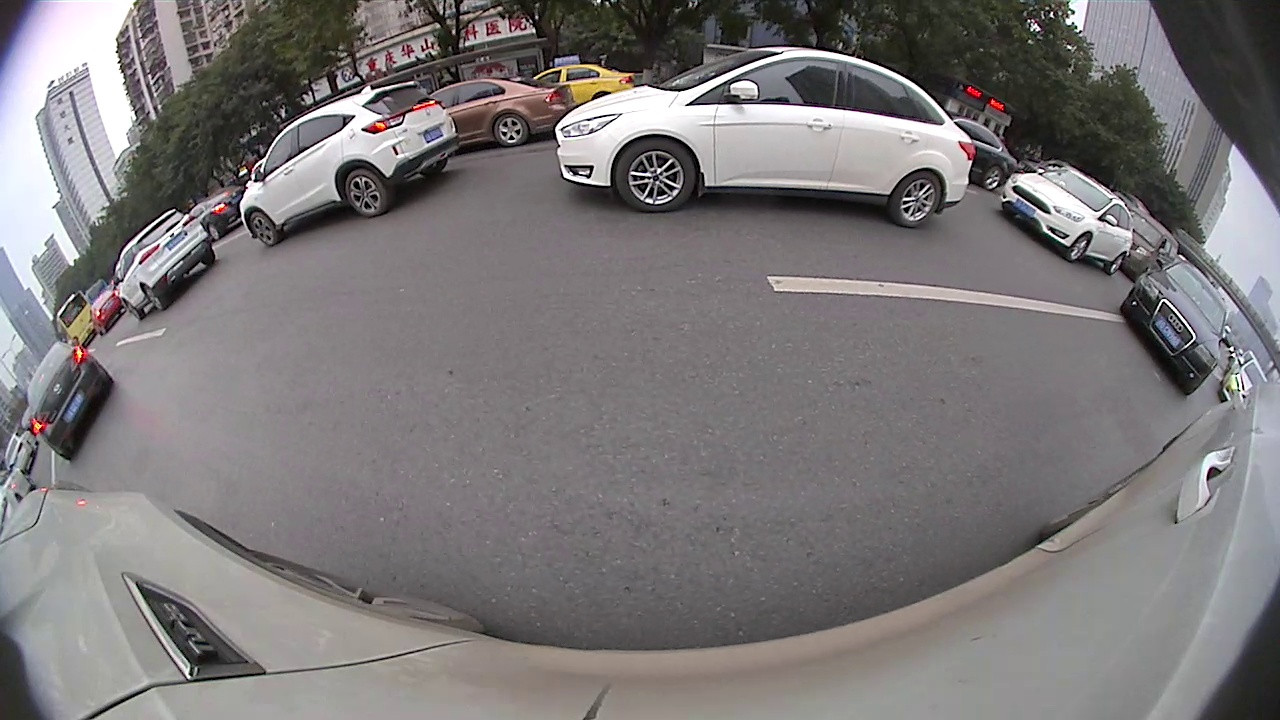car: (554, 44, 974, 228), (239, 83, 454, 249), (1118, 261, 1227, 397), (1003, 167, 1132, 275), (23, 335, 117, 463), (111, 206, 215, 320), (429, 77, 575, 150), (1126, 210, 1180, 278)
front: (612, 135, 699, 215), (246, 209, 281, 248), (1066, 230, 1093, 267)
rear: (887, 167, 944, 226), (343, 167, 389, 218), (493, 110, 531, 150), (138, 282, 171, 313), (981, 162, 1007, 194), (1106, 251, 1129, 278)
